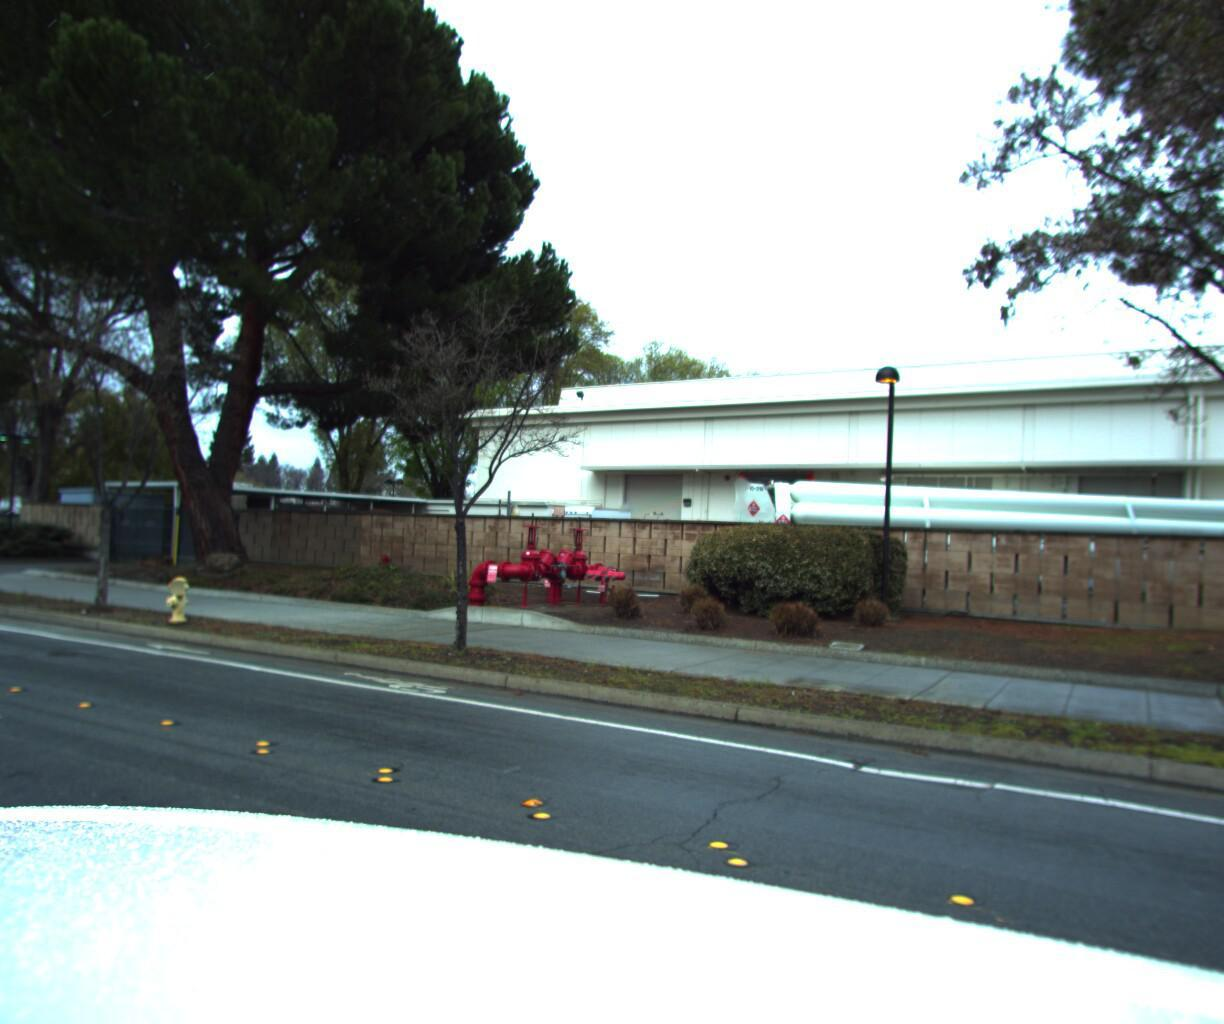truck: (510, 491, 635, 564)
